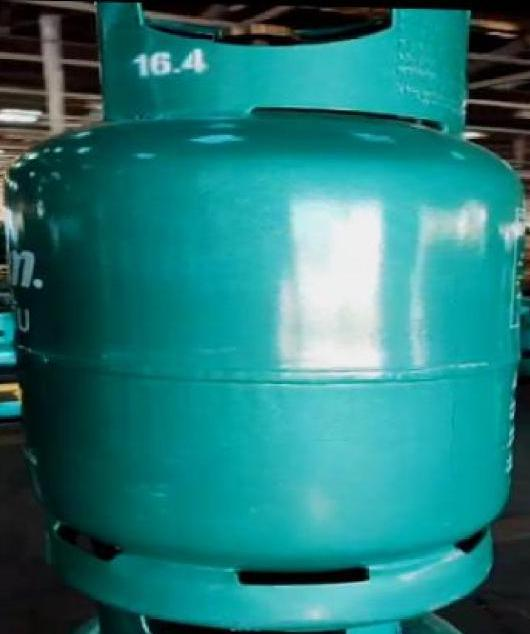cylinder: (1, 0, 530, 634)
